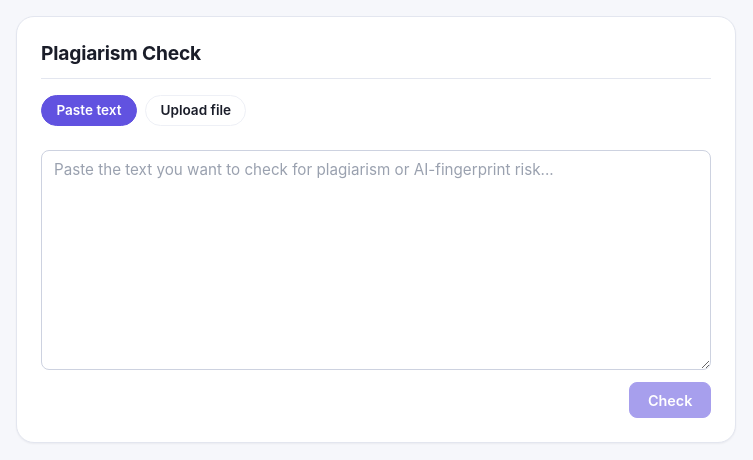
PlagiarismCheckPanel › disables the check button while a check is in-flight
Replace the text in the text box labelled "Paste the text you want to check for plagiarism or AI-fingerprint risk..." with "Some text" at (376, 260), box left=41, top=150, right=711, bottom=370
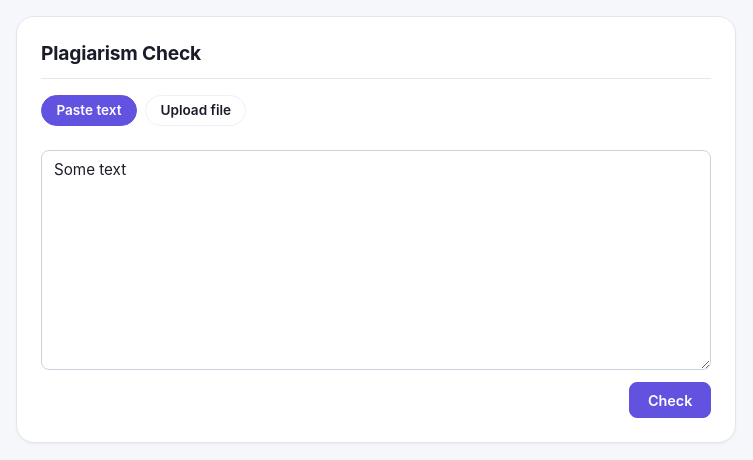
Click the button "Check" at (670, 400), box left=629, top=382, right=711, bottom=418
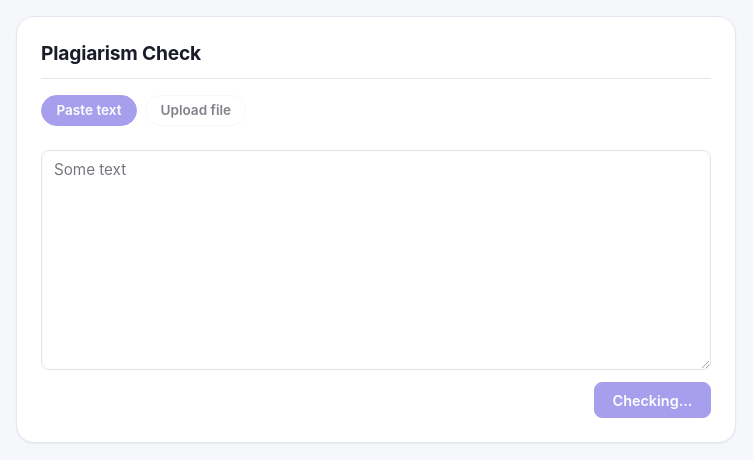
Expected: the button "Checking..." is disabled, left=594, top=382, right=711, bottom=418
